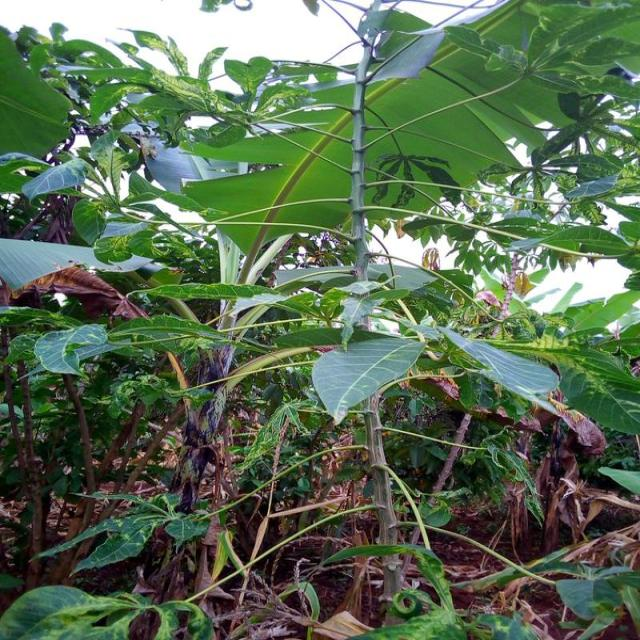cassava leaf: (310, 328, 425, 426)
